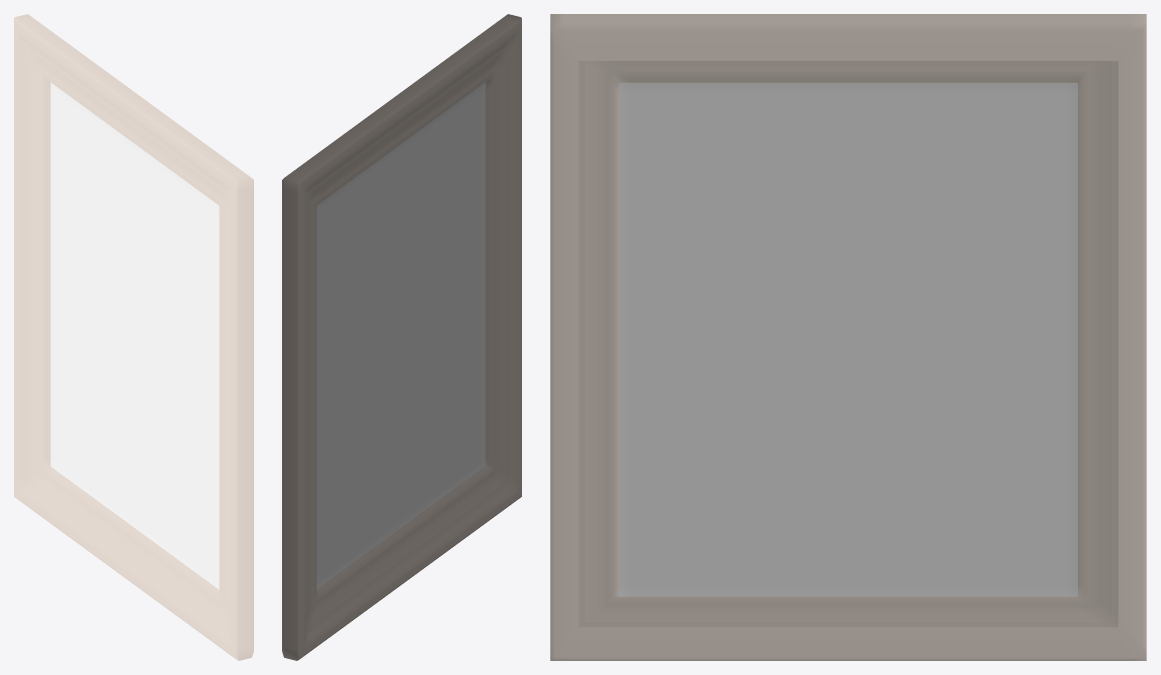
File: Mirror_07c28ab3.obj
3 views of the same model, side by side, from view 1: azimuth 30°, elevation 25°; view 2: azimuth 150°, elevation 25°; view 3: azimuth 270°, elevation 25° (orthographic). The views are drawn at different scales.
Visible parts, largest first — view 1: MirrorMesh_d320a145; view 2: MirrorMesh_d320a145; view 3: MirrorMesh_d320a145.
Boxes of the visible parts, <box> form: MirrorMesh_d320a145: <box>14,14,253,660</box>; MirrorMesh_d320a145: <box>282,14,521,660</box>; MirrorMesh_d320a145: <box>550,14,1146,660</box>.
Size of the model in its own units: 0.0415 by 0.9841 by 0.833.
